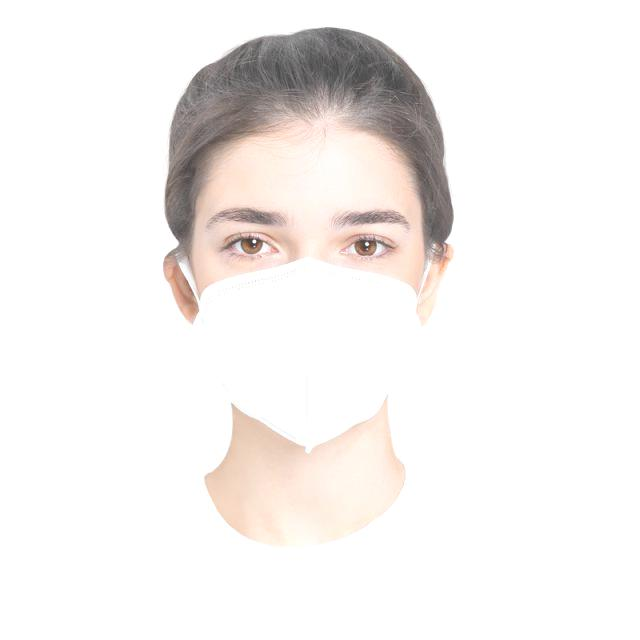person: (5, 25, 640, 639)
